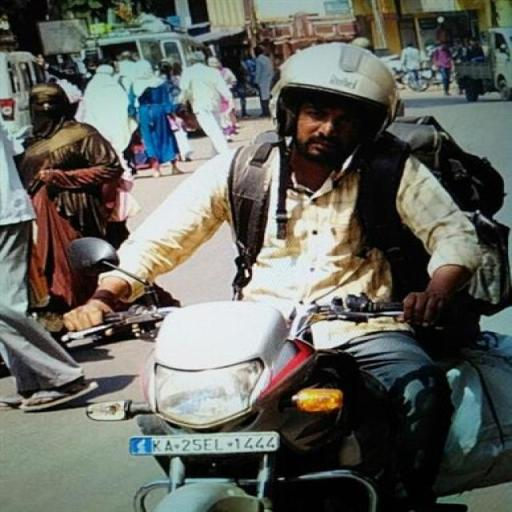using mobile: (363, 112, 403, 170)
